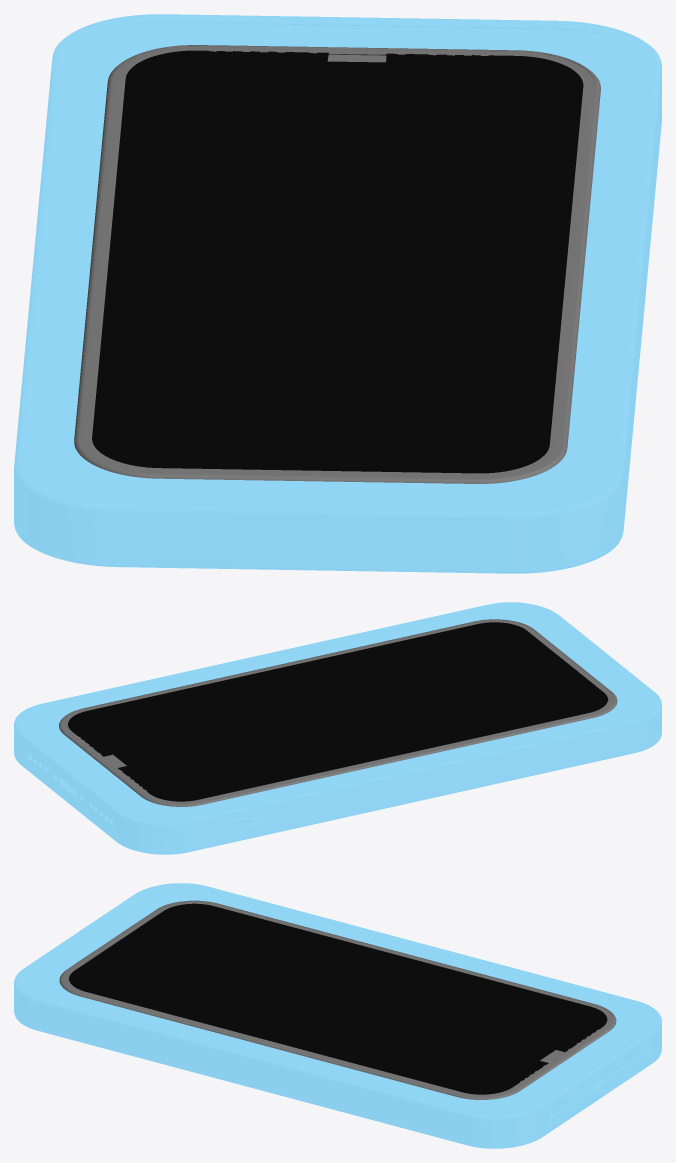
File: IphoneBorder.glb
3 renders of one model, top to bottom at view 1: azimuth 30°, elevation 25°; view 2: azimuth 150°, elevation 25°; view 3: azimuth 270°, elevation 25°, orthographic. The views are drawn at different scales.
Visible parts, largest first — view 1: Cube.007, Cube.001; view 2: Cube.007, Cube.001; view 3: Cube.007, Cube.001.
Boxes of the visible parts, left/top/right/bottom form: Cube.007: left=74, top=45, right=600, bottom=483; Cube.001: left=14, top=14, right=661, bottom=573; Cube.007: left=59, top=619, right=617, bottom=806; Cube.001: left=14, top=602, right=661, bottom=854; Cube.007: left=59, top=900, right=616, bottom=1099; Cube.001: left=14, top=883, right=661, bottom=1148.
Size of the model in its own units: 2.27 by 0.1453 by 2.64.
